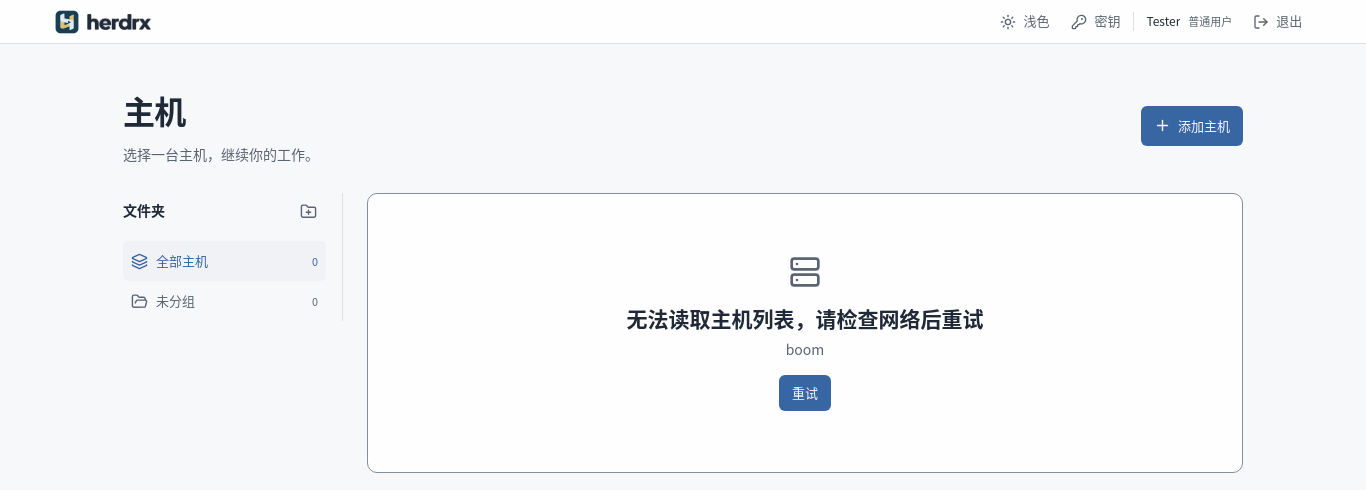
it: shows a retry empty state when the host list cannot be loaded
This screenshot has width=1366, height=490.
Expected: the heading "无法读取主机列表，请检查网络后重试" is shown, [626, 302, 984, 334]
Click the button "重试" at (805, 393), box [779, 375, 831, 411]
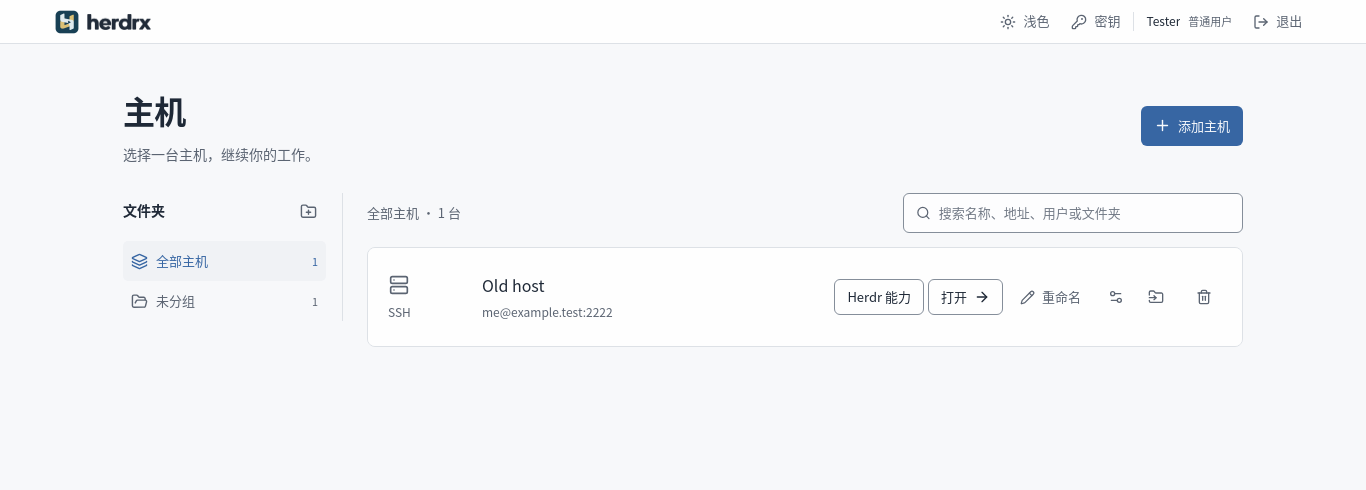
Now the heading "Old host" is shown, box [482, 274, 544, 298]
